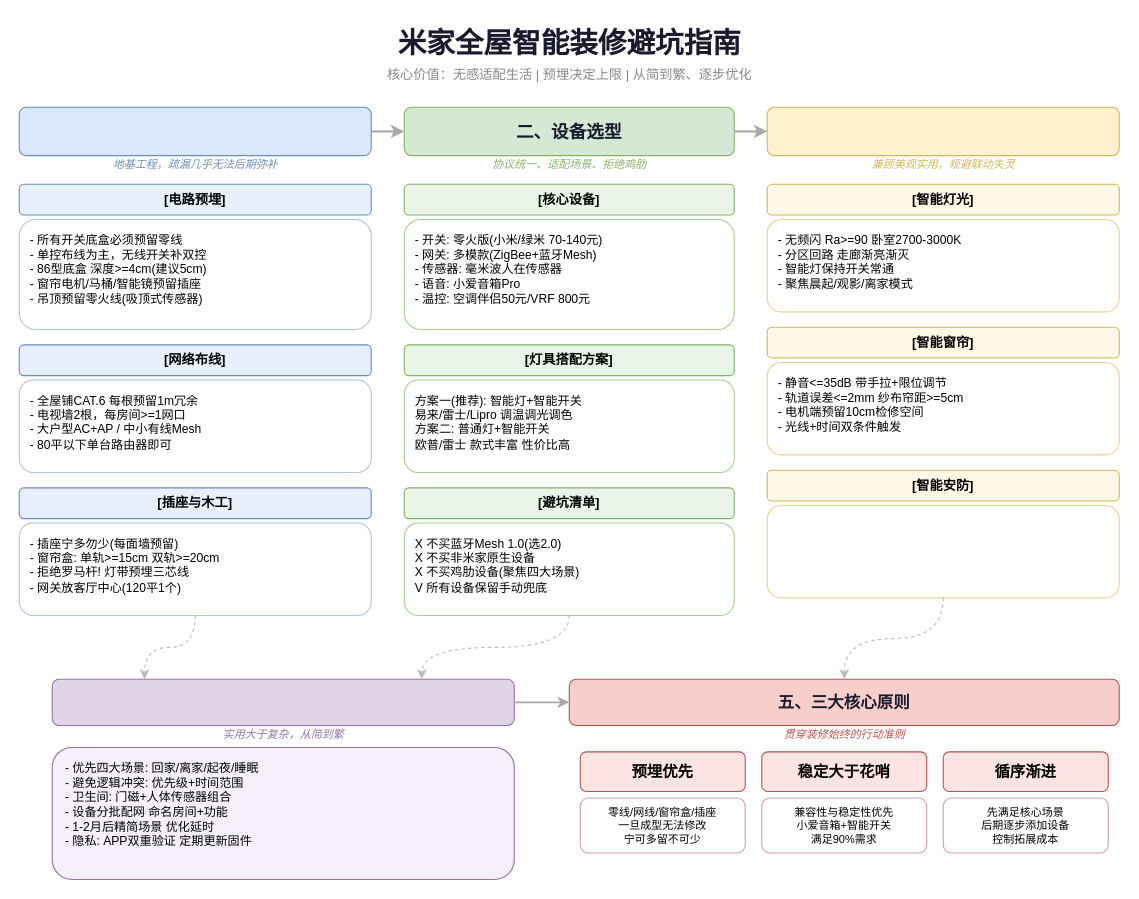
The diagram is 1139 pixels wide and 899 high, and some of its shapes have lost their labels. Each missing label, with the centre of its shape:
- 必装: 门锁+摄像头+燃气水浸+门磁 - 进阶: 人体传感器+烟雾+离线网关 - 摄像头避隐私区 离地>=2.5m - 确保离线本地联动(断网仍告警): point 942,551
一、前期规划与水电改造: point 194,131
三、核心场景专项: point 942,131
四、场景搭建与需求规划: point 282,701
